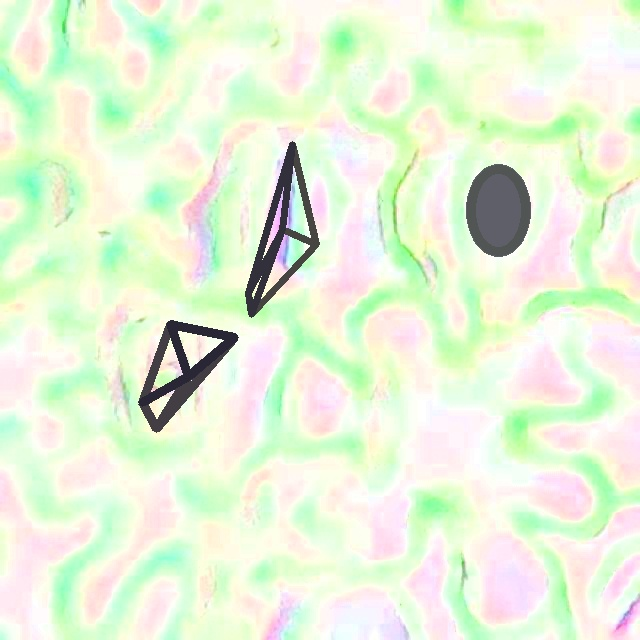open: (245, 142, 318, 316), (139, 320, 238, 431), (466, 163, 531, 257)
